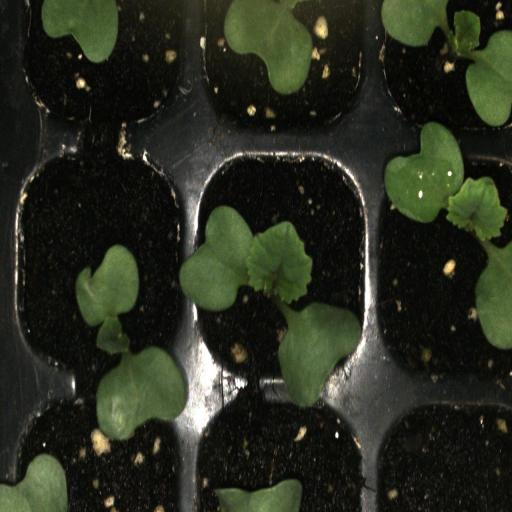Folha: (41, 0, 120, 64), (215, 479, 302, 512)
Germinacao: (190, 135, 372, 391), (11, 136, 191, 394), (371, 136, 512, 392), (373, 0, 512, 137)
